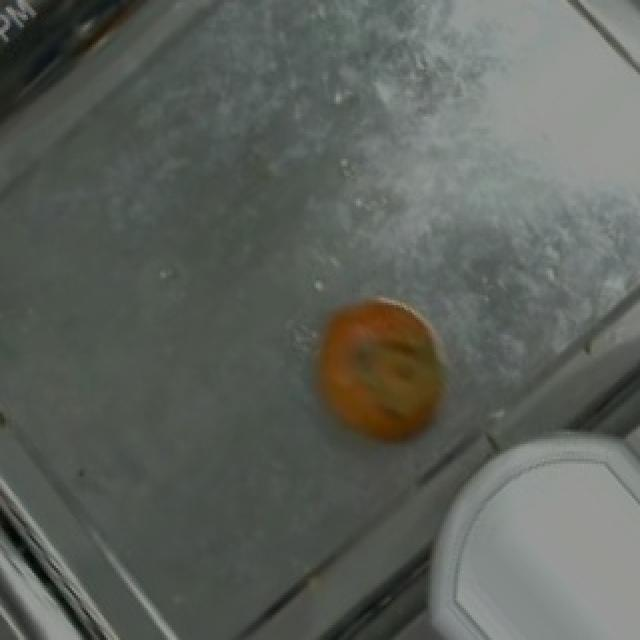Fruit: (434, 436, 638, 640), (296, 280, 470, 462)
